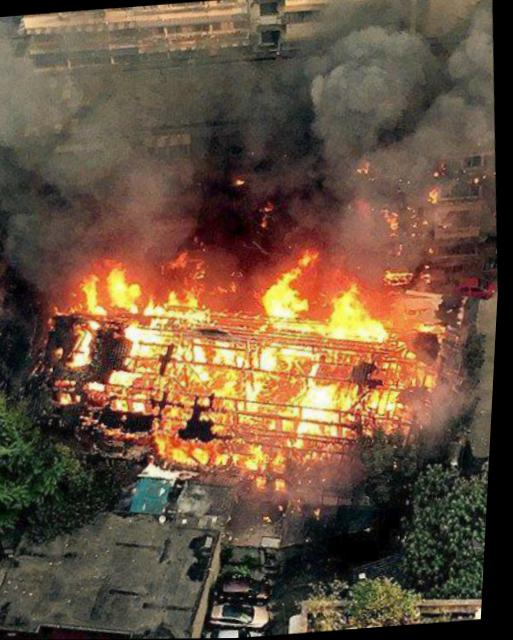fire: (332, 290, 394, 340), (247, 374, 309, 404), (105, 269, 148, 310), (266, 278, 309, 316), (271, 315, 334, 337), (173, 364, 216, 396), (308, 378, 349, 406), (71, 328, 98, 364), (370, 388, 405, 415), (165, 405, 200, 432), (215, 368, 246, 395), (279, 340, 325, 358), (249, 402, 303, 417), (217, 347, 253, 367), (240, 412, 279, 430), (257, 347, 285, 372), (283, 355, 322, 372), (160, 432, 186, 457), (301, 422, 344, 437), (88, 278, 106, 313), (167, 307, 214, 320), (133, 325, 168, 342), (142, 294, 169, 316), (387, 269, 417, 287), (249, 446, 271, 468), (217, 437, 251, 451), (117, 370, 144, 387), (137, 342, 167, 357), (305, 410, 345, 421), (276, 450, 294, 472), (189, 287, 206, 309), (179, 445, 201, 462), (299, 250, 320, 266), (166, 289, 187, 305), (209, 410, 235, 422), (199, 446, 217, 463), (192, 347, 210, 363), (218, 451, 240, 464), (221, 396, 242, 409), (260, 473, 276, 490), (134, 400, 151, 412), (279, 476, 292, 491), (89, 317, 105, 329), (93, 381, 110, 390)
